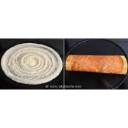dosa: (1, 41, 63, 86), (67, 53, 127, 77)
